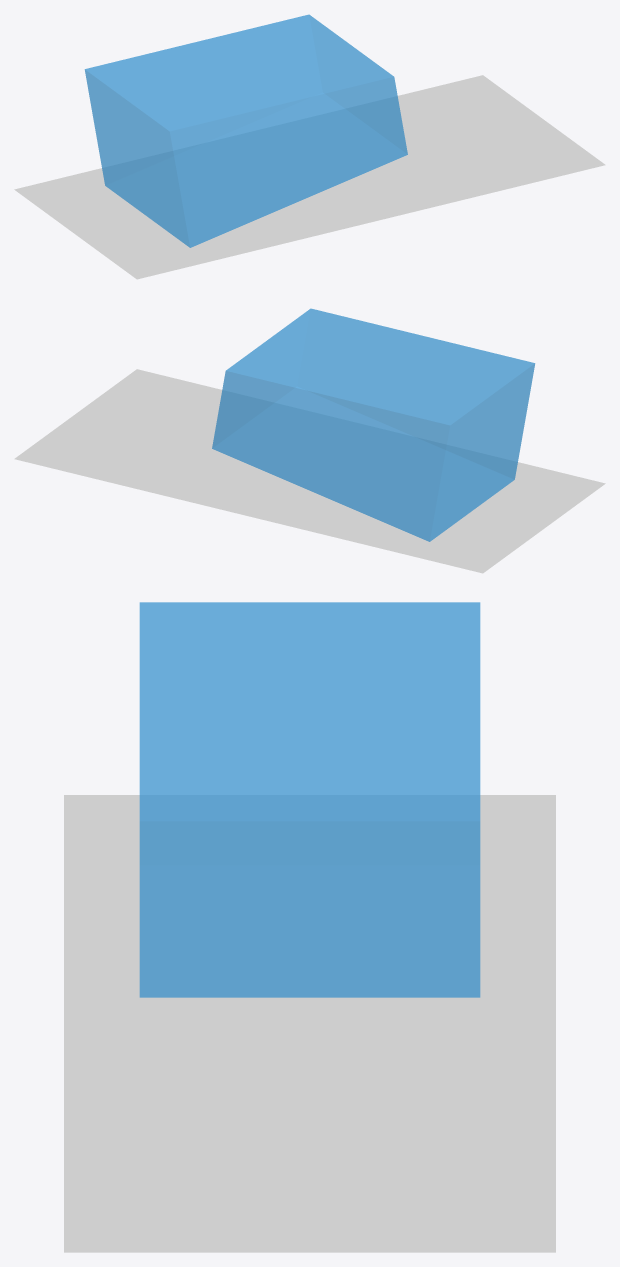
The model's file is Giải bài tập 7.56 (lớp 11_hình học không gian).glb.
3 renders of one model, top to bottom at view 1: azimuth 30°, elevation 25°; view 2: azimuth 150°, elevation 25°; view 3: azimuth 270°, elevation 25°, orthographic. The views are drawn at different scales.
Parts seen in each view (by area): view 1: red.012, Mesh_9.027, Mesh_8.053, Mesh_11.030, Mesh_10.040, Mesh_6.051, Mesh_7.044; view 2: red.012, Mesh_8.053, Mesh_9.027, Mesh_11.030, Mesh_10.040, Mesh_6.051, Mesh_7.044; view 3: red.012, Mesh_6.051, Mesh_10.040, Mesh_7.044, Mesh_11.030.
Part boxes in pixels (x1,y1,x2,y2): red.012: (14, 75, 605, 279); Mesh_9.027: (170, 77, 407, 247); Mesh_8.053: (85, 15, 322, 184); Mesh_11.030: (106, 93, 407, 247); Mesh_10.040: (85, 14, 393, 131); Mesh_6.051: (85, 70, 189, 247); Mesh_7.044: (309, 15, 407, 153); red.012: (14, 369, 605, 573); Mesh_8.053: (212, 371, 449, 541); Mesh_9.027: (297, 309, 534, 478); Mesh_11.030: (212, 387, 513, 541); Mesh_10.040: (226, 308, 534, 425); Mesh_6.051: (430, 364, 534, 541); Mesh_7.044: (212, 309, 310, 447); red.012: (64, 795, 555, 1252); Mesh_6.051: (140, 602, 479, 864); Mesh_10.040: (139, 602, 480, 821); Mesh_7.044: (139, 821, 480, 997); Mesh_11.030: (140, 865, 479, 997).
Bounding box in the file's own units: 3.18 × 0.7878 × 1.44.
